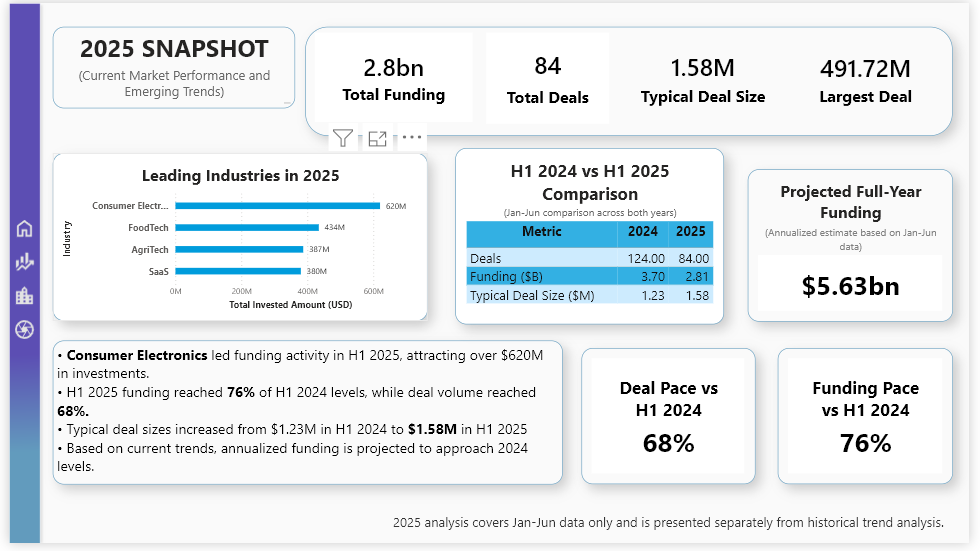

Layout of this report page (visuals, bound fields, positions):
{"tool":"powerbi","page":{"name":"2025 Snapshot","canvas":[1280,720],"ordinal":3},"visuals":[{"type":"actionButton","box":[0,365.2,41.4,50],"z":0},{"type":"actionButton","box":[0,320.5,41.4,50],"z":1000},{"type":"cardVisual","title":"Total Deals (2020-2024)","fields":{"Data":["investor_funding.Total Deals"]},"box":[623.5,26.9,190,147.1],"z":2000},{"type":"cardVisual","title":"Total Funding (2020-2024)","fields":{"Data":["investor_funding.USD"]},"box":[395.7,27.4,236.9,145.4],"z":3000},{"type":"actionButton","box":[0,275.7,41.4,50],"z":4000},{"type":"cardVisual","title":"Median Deal Size (2020-2024)","fields":{"Data":["investor_funding.Deal Size"]},"box":[804.3,27.1,241,147.1],"z":5000},{"type":"actionButton","box":[0,410,41.4,50],"z":6000},{"type":"cardVisual","title":"Largest Deal (2020-2024)","fields":{"Data":["investor_funding.Deal"]},"box":[1036.1,27.6,211,145.9],"z":7000},{"type":"textbox","title":"2025 SNAPSHOT","box":[58.6,31.4,322.9,108.6],"z":8000},{"type":"shape","box":[395.7,31.4,862.9,145.7],"z":9000},{"type":"textbox","box":[500,675,758.3,45],"z":10000},{"type":"clusteredBarChart","title":"Leading Industries in 2025","fields":{"Category":["investor_funding.Industry"],"Y":["investor_funding.Total Funding"]},"box":[58.6,200,500,224.3],"z":11000},{"type":"cardVisual","title":"Projected Full-Year Funding","fields":{"Data":["Comparison Metrics.Projected Funding Card"]},"box":[985,221.7,273.3,203.3],"z":12000},{"type":"tableEx","title":"H1 2024 vs H1 2025 Comparison","fields":{"Values":["Comparison Metrics.Metric","Comparison Metrics.2024","Comparison Metrics.2025"]},"box":[595,193.3,358.3,235],"z":12001},{"type":"cardVisual","fields":{"Data":["investor_funding.Funding Pace %"]},"box":[1025,460,233.3,181.7],"z":12002},{"type":"cardVisual","fields":{"Data":["investor_funding.Deal Pace %"]},"box":[763.3,460,231.7,181.7],"z":12003},{"type":"textbox","box":[58.3,450,680,191.7],"z":12004}]}

Visuals, with their boxes on the page's 1280x720 design canvas (x1, y1, x2, y2). These are canvas units, not pixel positions in the 980x551 screenshot, which may show the page scaled, cropped or inside an application window:
actionButton: <region>0, 365, 41, 415</region>
actionButton: <region>0, 320, 41, 370</region>
"Total Deals (2020-2024)" cardVisual: <region>624, 27, 814, 174</region>
"Total Funding (2020-2024)" cardVisual: <region>396, 27, 633, 173</region>
actionButton: <region>0, 276, 41, 326</region>
"Median Deal Size (2020-2024)" cardVisual: <region>804, 27, 1045, 174</region>
actionButton: <region>0, 410, 41, 460</region>
"Largest Deal (2020-2024)" cardVisual: <region>1036, 28, 1247, 174</region>
"2025 SNAPSHOT" textbox: <region>59, 31, 382, 140</region>
shape: <region>396, 31, 1259, 177</region>
textbox: <region>500, 675, 1258, 720</region>
"Leading Industries in 2025" clusteredBarChart: <region>59, 200, 559, 424</region>
"Projected Full-Year Funding" cardVisual: <region>985, 222, 1258, 425</region>
"H1 2024 vs H1 2025 Comparison" tableEx: <region>595, 193, 953, 428</region>
cardVisual - investor_funding.Funding Pace %: <region>1025, 460, 1258, 642</region>
cardVisual - investor_funding.Deal Pace %: <region>763, 460, 995, 642</region>
textbox: <region>58, 450, 738, 642</region>
